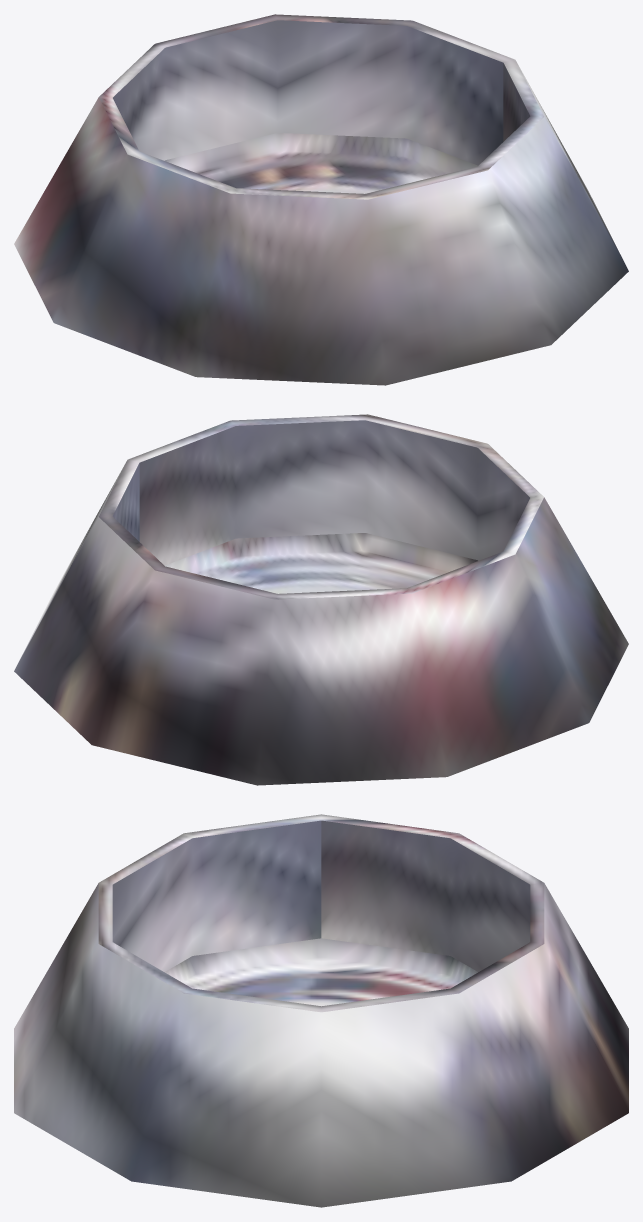
The model's file is dog_water_bowl.FBX.
3 views of the same model, one above another, from view 1: azimuth 30°, elevation 25°; view 2: azimuth 150°, elevation 25°; view 3: azimuth 270°, elevation 25° (orthographic). The views are drawn at different scales.
Parts seen in each view (by area): view 1: dog_water_bowl; view 2: dog_water_bowl; view 3: dog_water_bowl.
Part boxes in pixels (x1=…): dog_water_bowl: x1=14, y1=14, x2=628, y2=385; dog_water_bowl: x1=14, y1=414, x2=628, y2=785; dog_water_bowl: x1=14, y1=814, x2=628, y2=1207.
Bounding box in the file's own units: 23.6 × 6.34 × 22.44.
